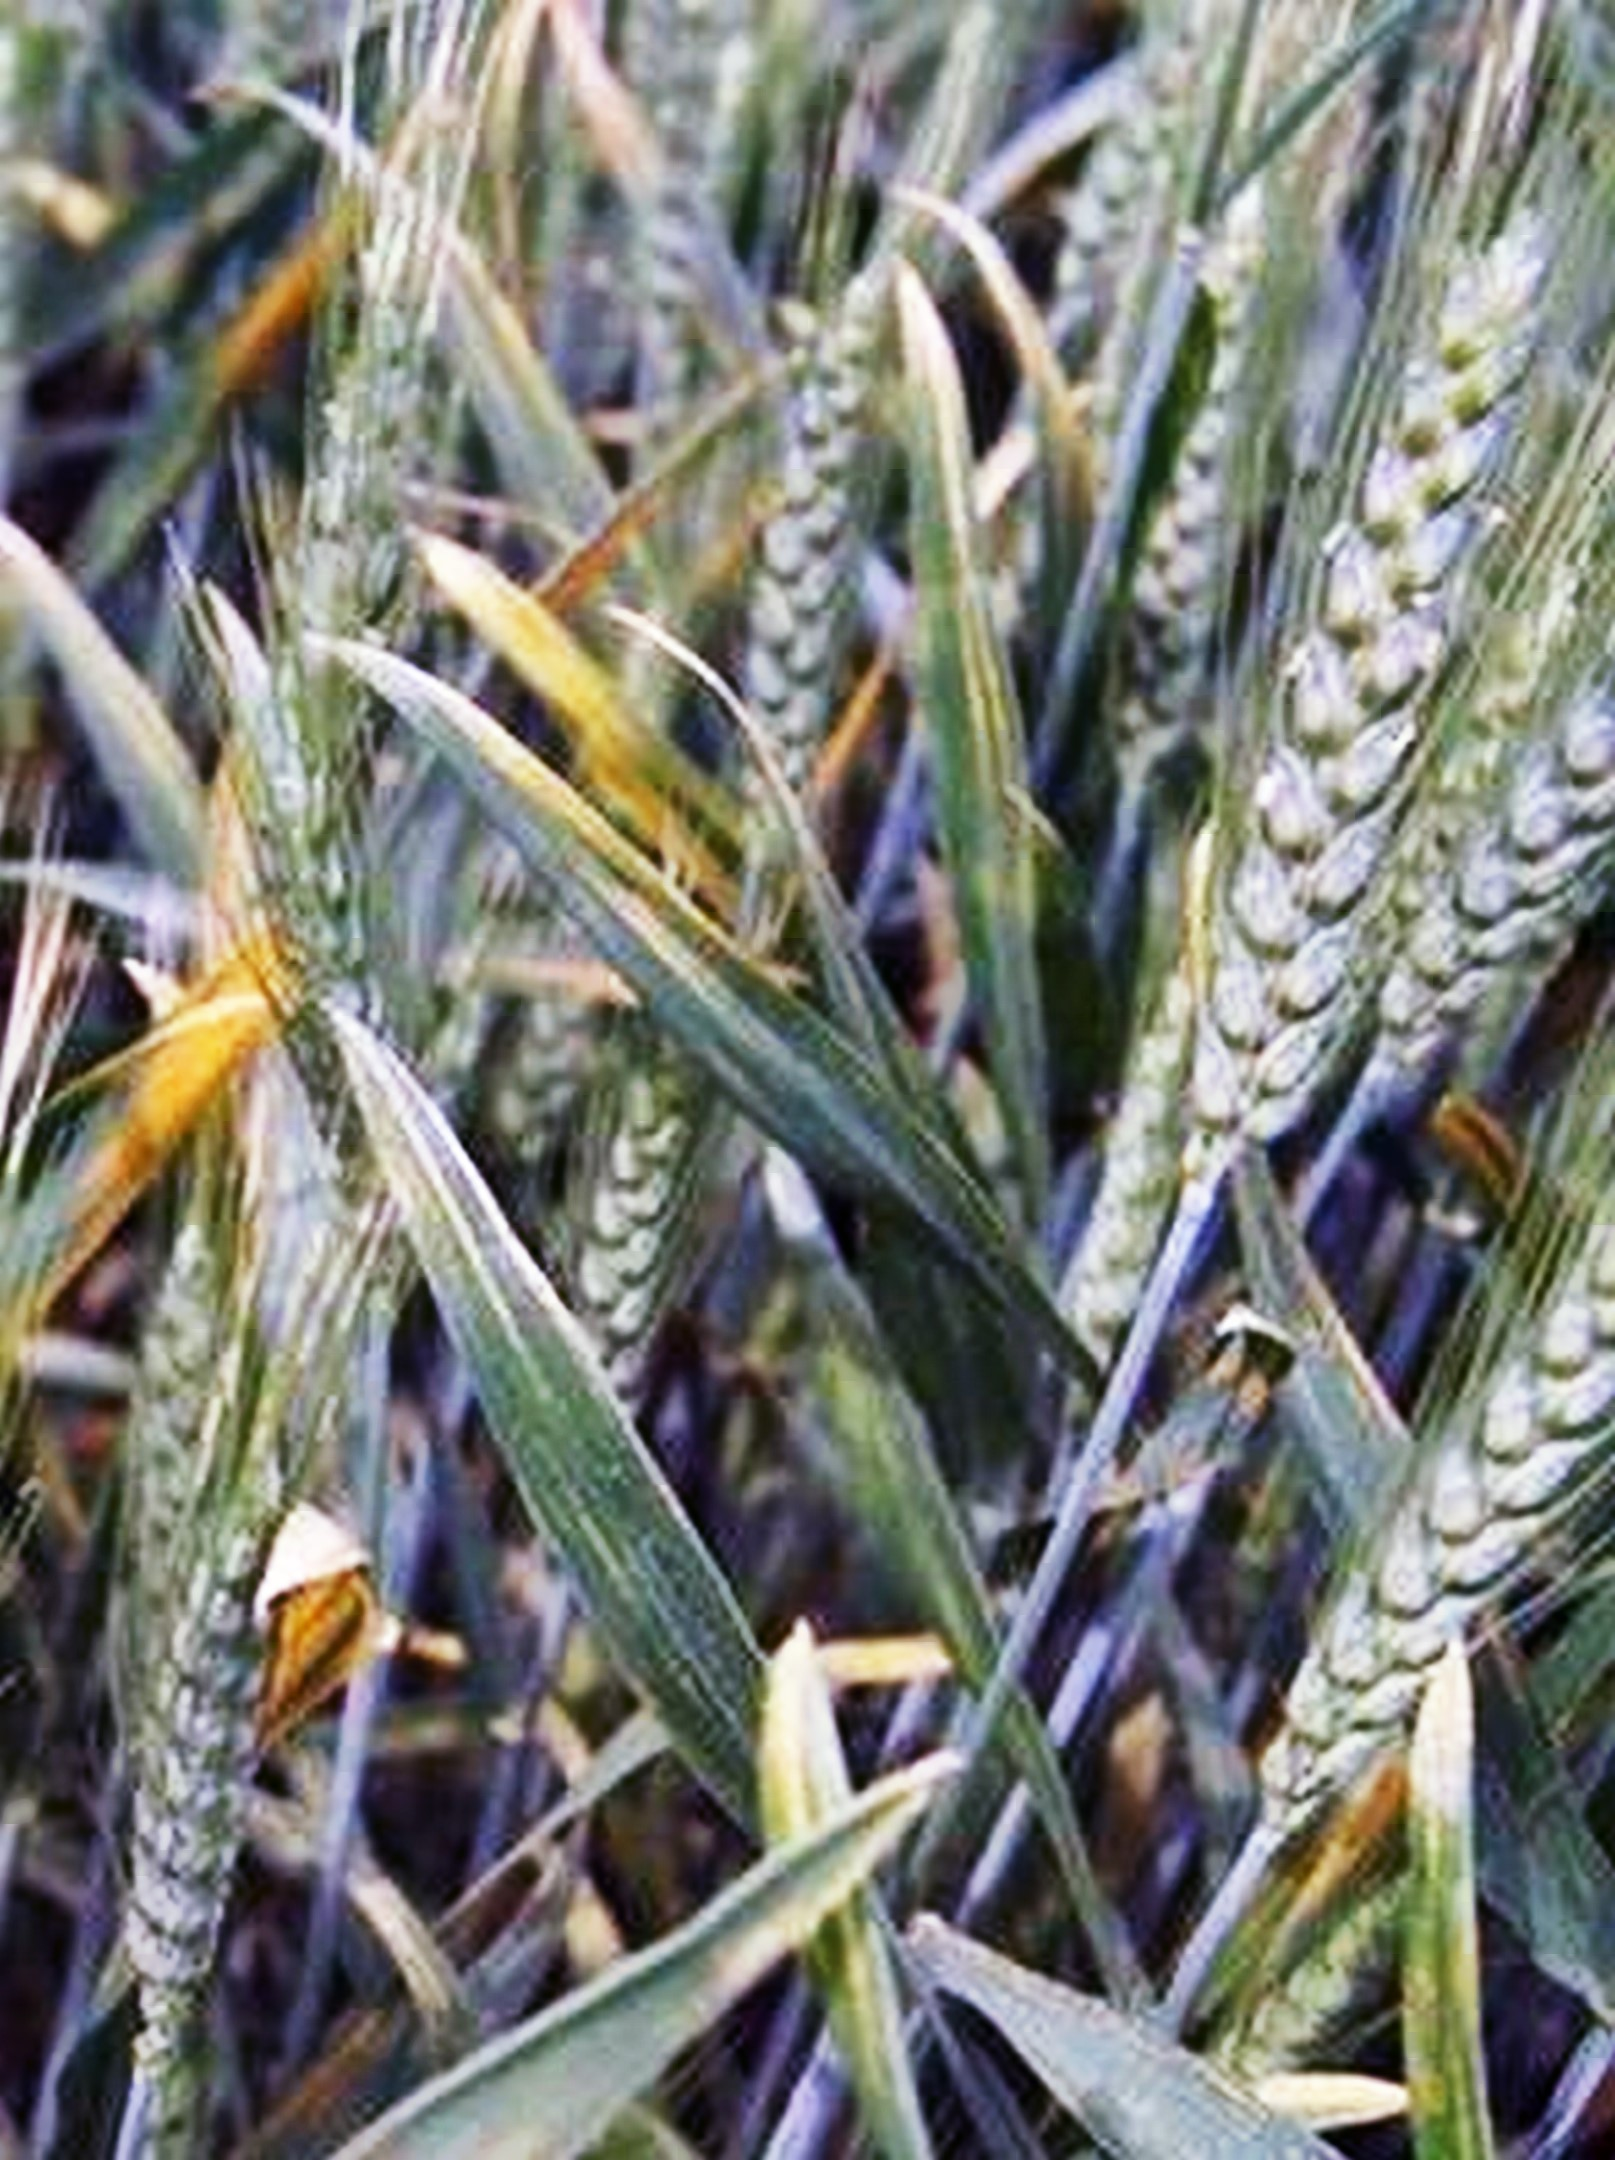Healthy Wheat: (1169, 238, 1549, 1178)
